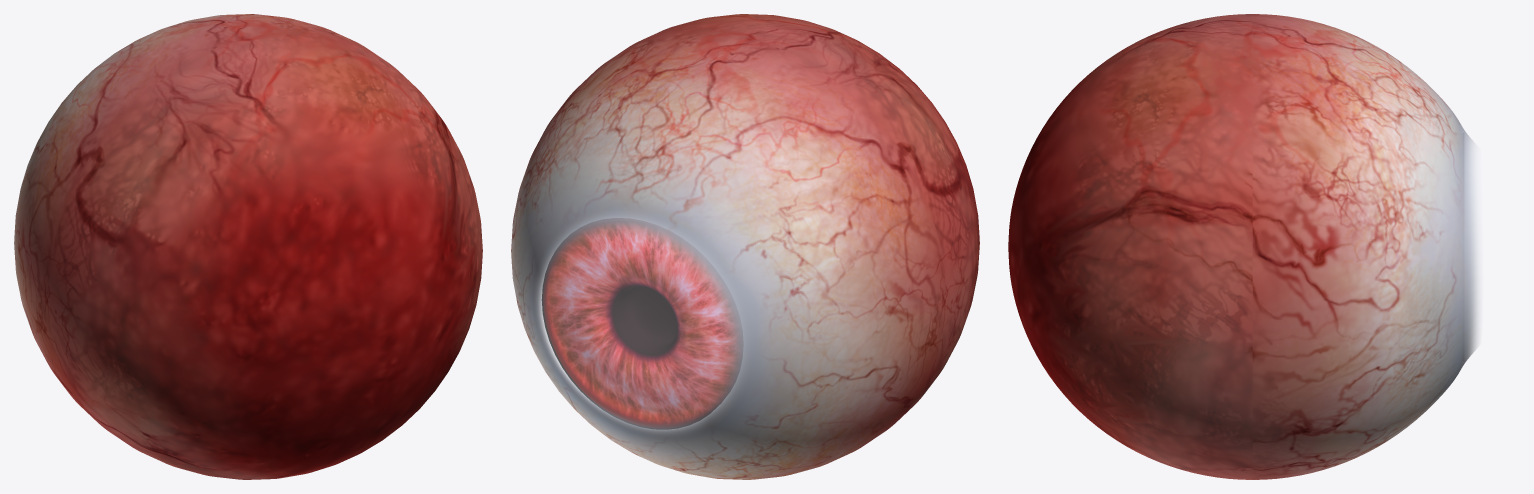
The model's file is red_eye_model.gltf.
The picture shows the model from 3 angles, left to right: view 1: azimuth 30°, elevation 25°; view 2: azimuth 150°, elevation 25°; view 3: azimuth 270°, elevation 25°; orthographic projection.
Parts seen in each view (by area): view 1: Sclera; view 2: Sclera, Iris; view 3: Sclera.
Boxes of the visible parts, x1,y1,x2,y2 form: Sclera: [14, 14, 482, 479]; Sclera: [511, 14, 979, 479]; Iris: [541, 218, 741, 429]; Sclera: [1008, 14, 1479, 479].
Bounding box in the file's own units: 229 × 229 × 251.
2 materials, 2 textured.
